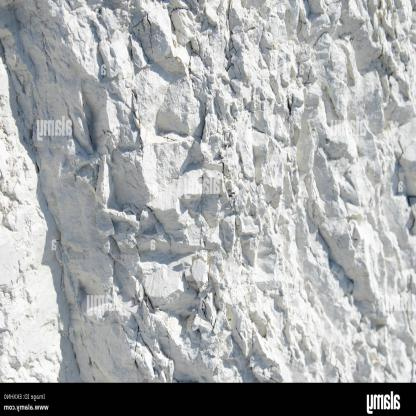Sedimentary_Chalk: (128, 70, 200, 142), (348, 221, 390, 322), (299, 88, 339, 169), (165, 163, 221, 218), (229, 0, 270, 70), (296, 0, 326, 85), (300, 254, 333, 326), (362, 66, 395, 128), (252, 118, 281, 186), (306, 177, 335, 238), (236, 203, 263, 263), (254, 271, 288, 318), (343, 164, 373, 216), (172, 0, 201, 45), (399, 131, 415, 191), (340, 0, 365, 36)
